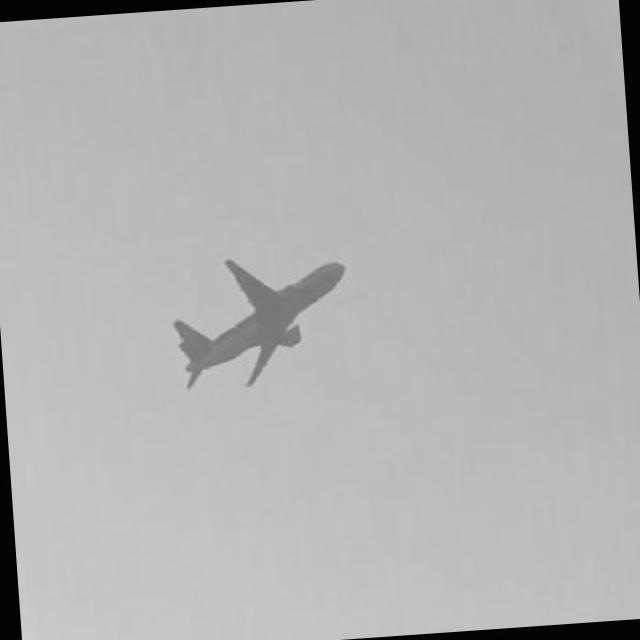aeroplane: (166, 249, 355, 394)
